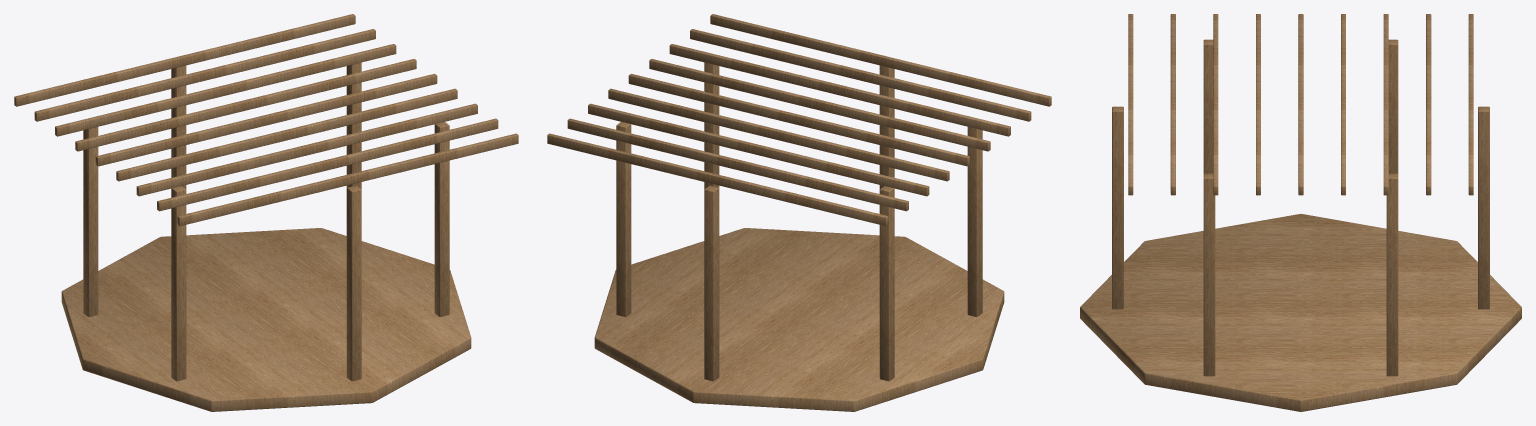
File: park-gazebo-7ff0f2f3eb0b.glb
3 renders of one model, left to right at view 1: azimuth 30°, elevation 25°; view 2: azimuth 150°, elevation 25°; view 3: azimuth 270°, elevation 25°, orthographic. The views are drawn at different scales.
Parts seen in each view (by area): view 1: Mesh_Campus_Oak; view 2: Mesh_Campus_Oak; view 3: Mesh_Campus_Oak.
Boxes of the visible parts, x1,y1,x2,y2 form: Mesh_Campus_Oak: (14, 14, 518, 411); Mesh_Campus_Oak: (547, 14, 1051, 411); Mesh_Campus_Oak: (1080, 14, 1521, 411).
Size of the model in its own units: 5.19 by 2.84 by 5.19.
1 material, 1 textured.
